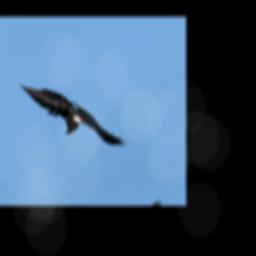Crow: (18, 63, 129, 164)
